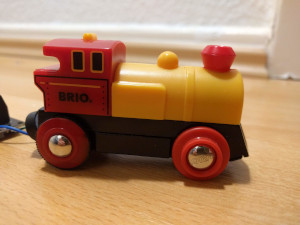brio: (30, 32, 253, 186)
